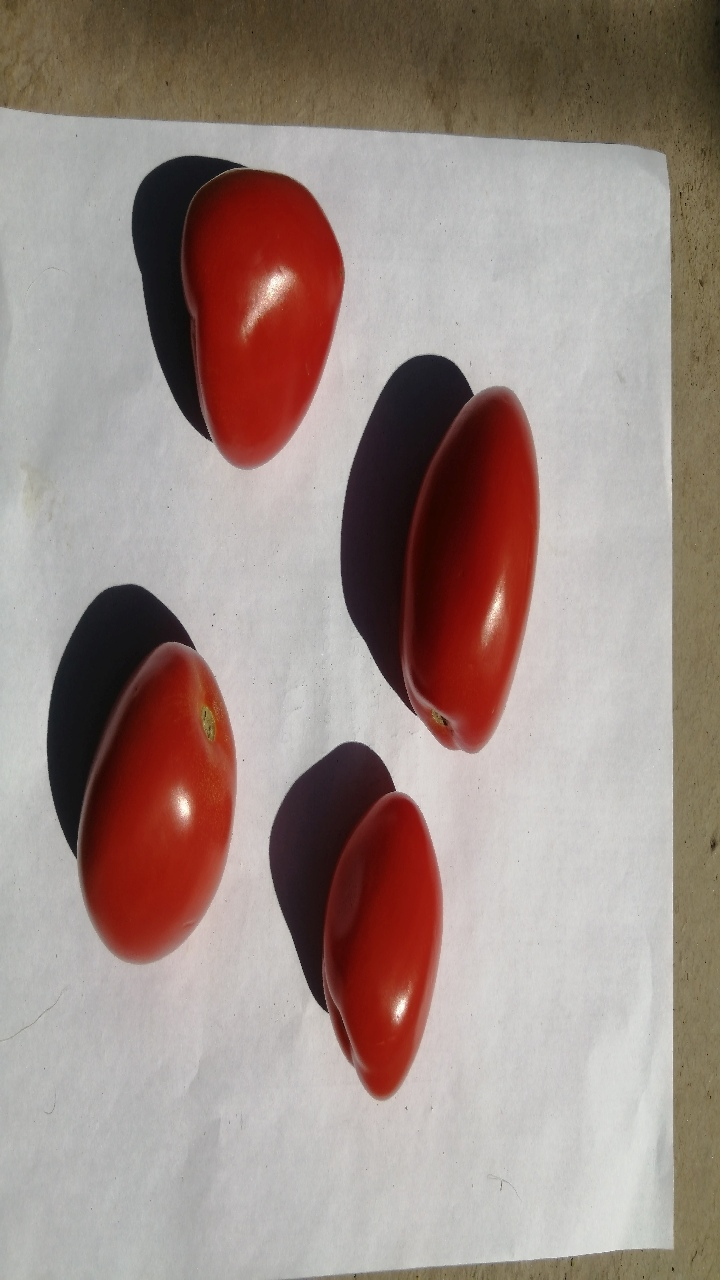tomateRojo: (361, 362, 574, 774), (55, 619, 266, 982), (151, 142, 354, 506), (297, 760, 466, 1112)
